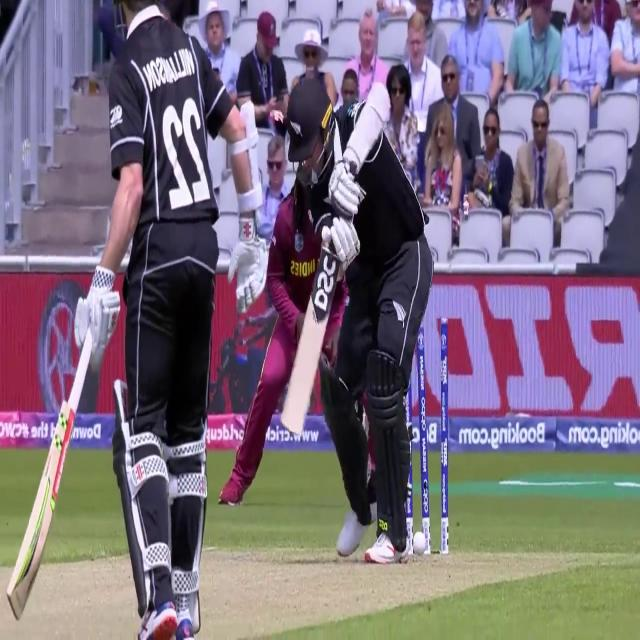ball: (409, 525, 428, 559)
